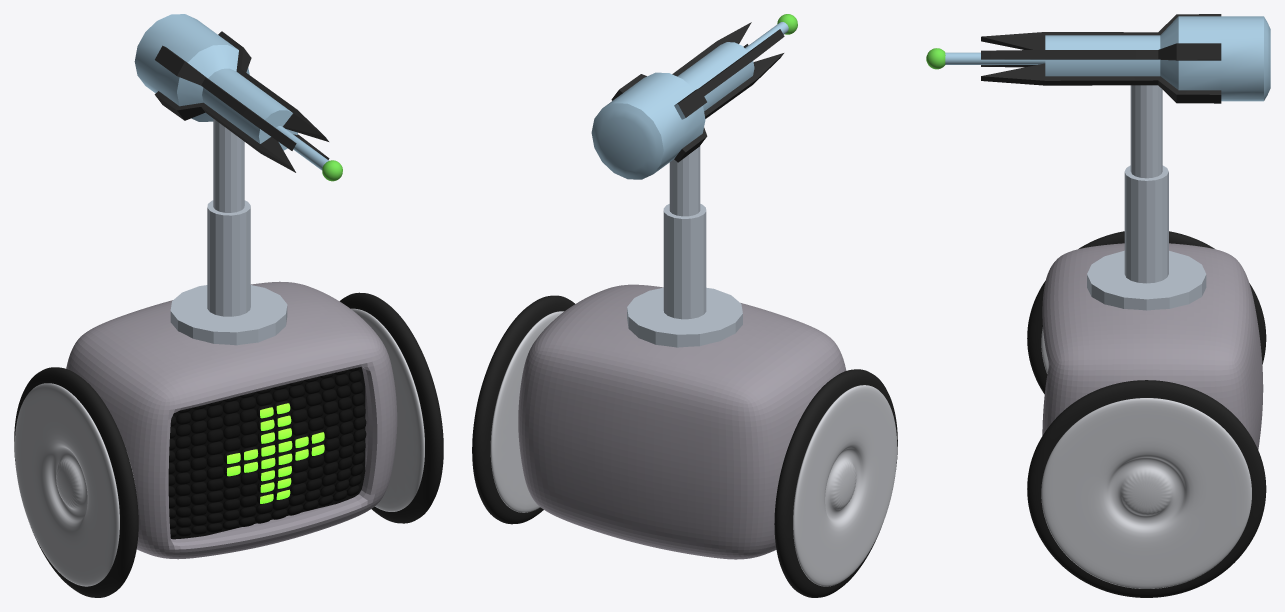
The model's file is healer_robot.fbx.
The picture shows the model from 3 angles, left to right: view 1: azimuth 30°, elevation 25°; view 2: azimuth 150°, elevation 25°; view 3: azimuth 270°, elevation 25°; orthographic projection. The views are drawn at different scales.
Visible parts, largest first — view 1: Body, Wheels, Screen, Turret, Tower; view 2: Body, Wheels, Turret, Tower; view 3: Wheels, Body, Turret, Tower.
Boxes of the visible parts, bbox=[...] form: Body: bbox=[66, 281, 397, 559]; Wheels: bbox=[14, 292, 443, 597]; Screen: bbox=[168, 367, 366, 537]; Turret: bbox=[134, 14, 342, 181]; Tower: bbox=[170, 119, 287, 345]; Body: bbox=[518, 284, 846, 559]; Wheels: bbox=[472, 295, 897, 597]; Turret: bbox=[591, 14, 797, 179]; Tower: bbox=[627, 146, 742, 347]; Wheels: bbox=[1027, 231, 1266, 597]; Body: bbox=[1042, 243, 1263, 449]; Turret: bbox=[926, 14, 1270, 103]; Tower: bbox=[1087, 85, 1206, 310].
Size of the model in its own units: 76.83 by 111 by 68.88.
